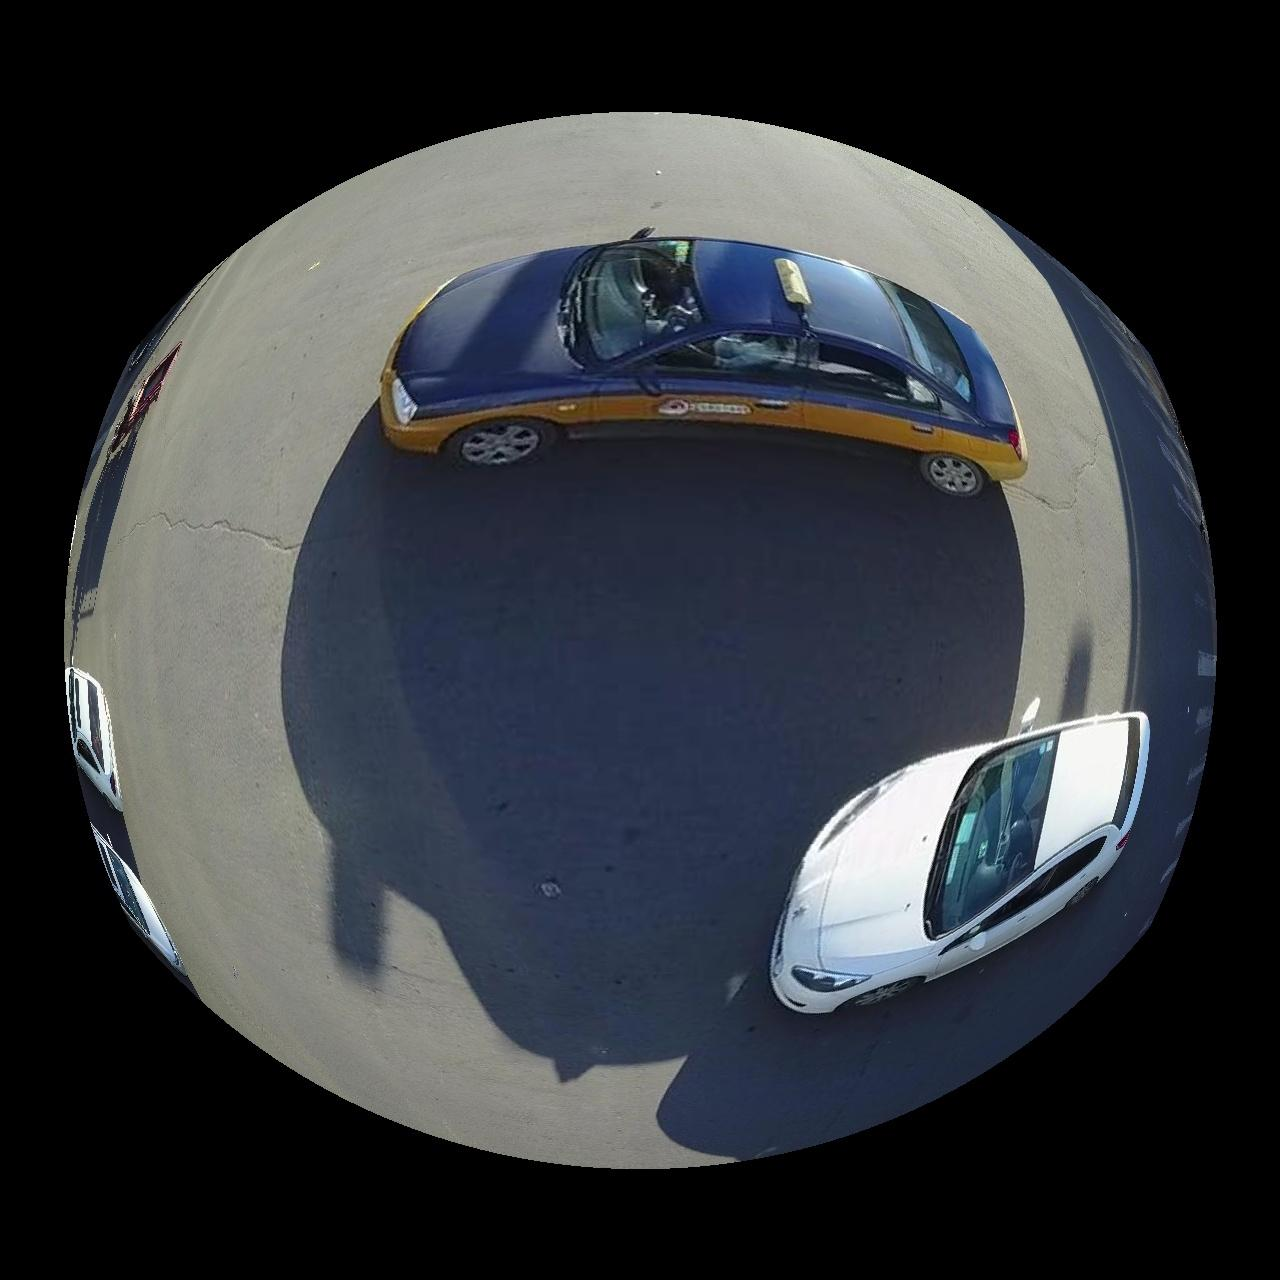cars: (380, 229, 1030, 497), (771, 713, 1150, 1015)
